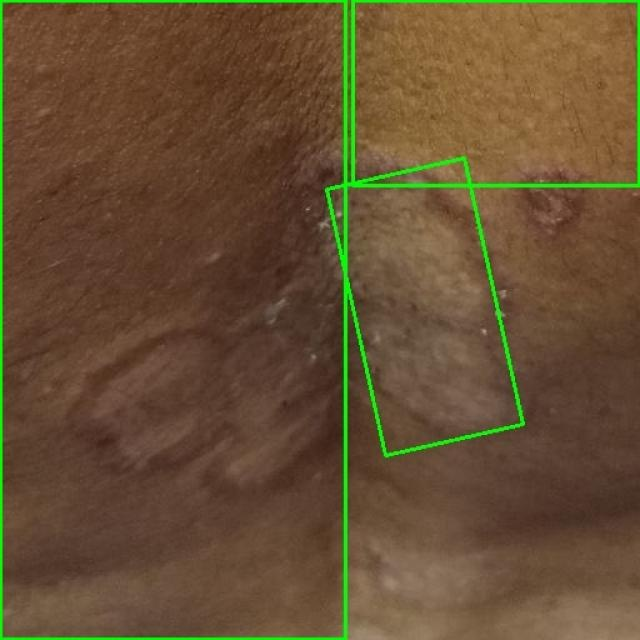Tinea Corporis: (0, 0, 345, 639), (327, 159, 524, 455), (352, 0, 639, 185)
